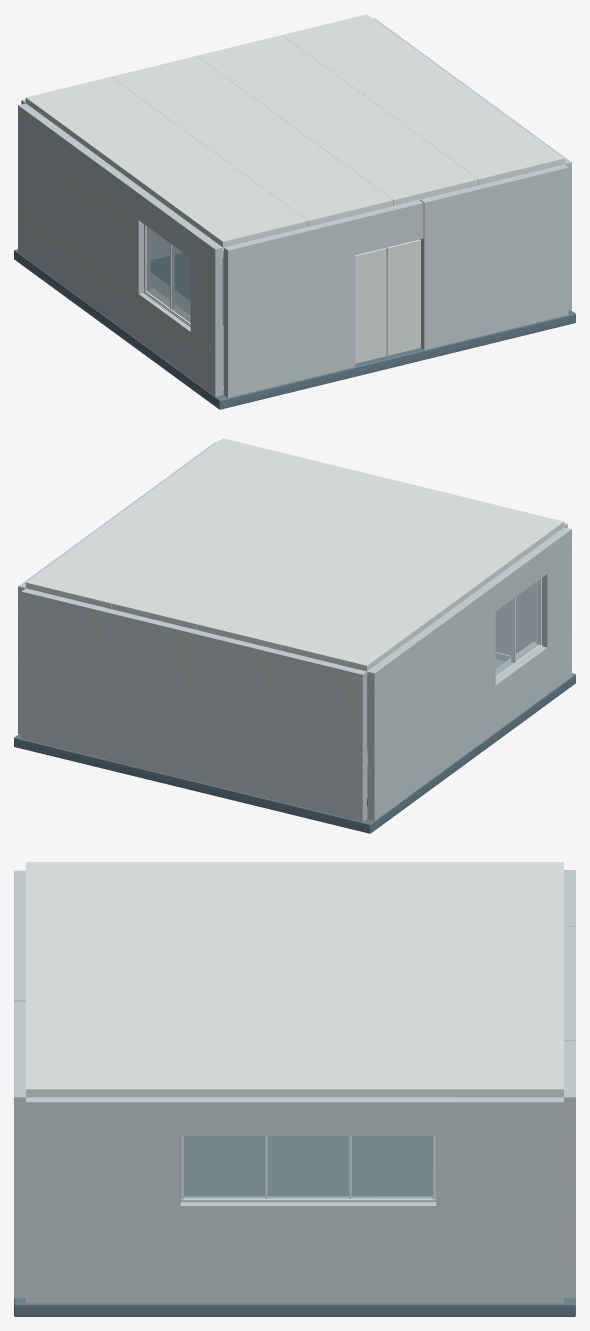
File: FirstAid_Modular_TrainingRoom.glb
3 views of the same model, one above another, from view 1: azimuth 30°, elevation 25°; view 2: azimuth 150°, elevation 25°; view 3: azimuth 270°, elevation 25° (orthographic). The views are drawn at different scales.
Parts seen in each view (by area): view 1: ENV_Ceiling, ENV_Room_Wall_D, ENV_Room_Wall_C, ENV_Room_Floor, Entry_Door_2, Entry_Door_1, West_Window_Glass, ENV_TrainingArea, ENV_Room_Wall_B, West_Window_Frame; view 2: ENV_Ceiling, ENV_Room_Wall_A, ENV_Room_Wall_C, ENV_Room_Floor, West_Window_Glass, ENV_Room_Wall_D, ENV_Room_Wall_B, West_Window_Frame; view 3: ENV_Ceiling, ENV_Room_Wall_B, East_Window_Glass, ENV_TrainingArea, ENV_Room_Floor, ENV_Room_Wall_A, ENV_Room_Wall_D, East_Window_Frame.
Boxes of the visible parts, <box> form: ENV_Ceiling: <box>25,14,564,247</box>; ENV_Room_Wall_D: <box>223,164,568,397</box>; ENV_Room_Wall_C: <box>18,103,222,396</box>; ENV_Room_Floor: <box>14,229,575,409</box>; Entry_Door_2: <box>386,239,420,355</box>; Entry_Door_1: <box>355,248,386,363</box>; West_Window_Glass: <box>146,226,190,322</box>; ENV_TrainingArea: <box>150,253,223,324</box>; ENV_Room_Wall_B: <box>373,18,571,310</box>; West_Window_Frame: <box>144,224,190,325</box>; ENV_Ceiling: <box>25,438,564,671</box>; ENV_Room_Wall_A: <box>21,588,366,821</box>; ENV_Room_Wall_C: <box>367,527,571,820</box>; ENV_Room_Floor: <box>14,659,575,833</box>; West_Window_Glass: <box>495,580,539,676</box>; ENV_Room_Wall_D: <box>496,523,567,655</box>; ENV_Room_Wall_B: <box>18,442,216,734</box>; West_Window_Frame: <box>495,578,541,678</box>; ENV_Ceiling: <box>26,862,563,1097</box>; ENV_Room_Wall_B: <box>26,1097,563,1303</box>; East_Window_Glass: <box>184,1136,432,1198</box>; ENV_TrainingArea: <box>184,1136,432,1195</box>; ENV_Room_Floor: <box>14,1298,575,1316</box>; ENV_Room_Wall_A: <box>564,870,575,1298</box>; ENV_Room_Wall_D: <box>14,870,25,1298</box>; East_Window_Frame: <box>180,1136,436,1202</box>.
Size of the model in its own units: 8.36 by 3.66 by 8.36.
